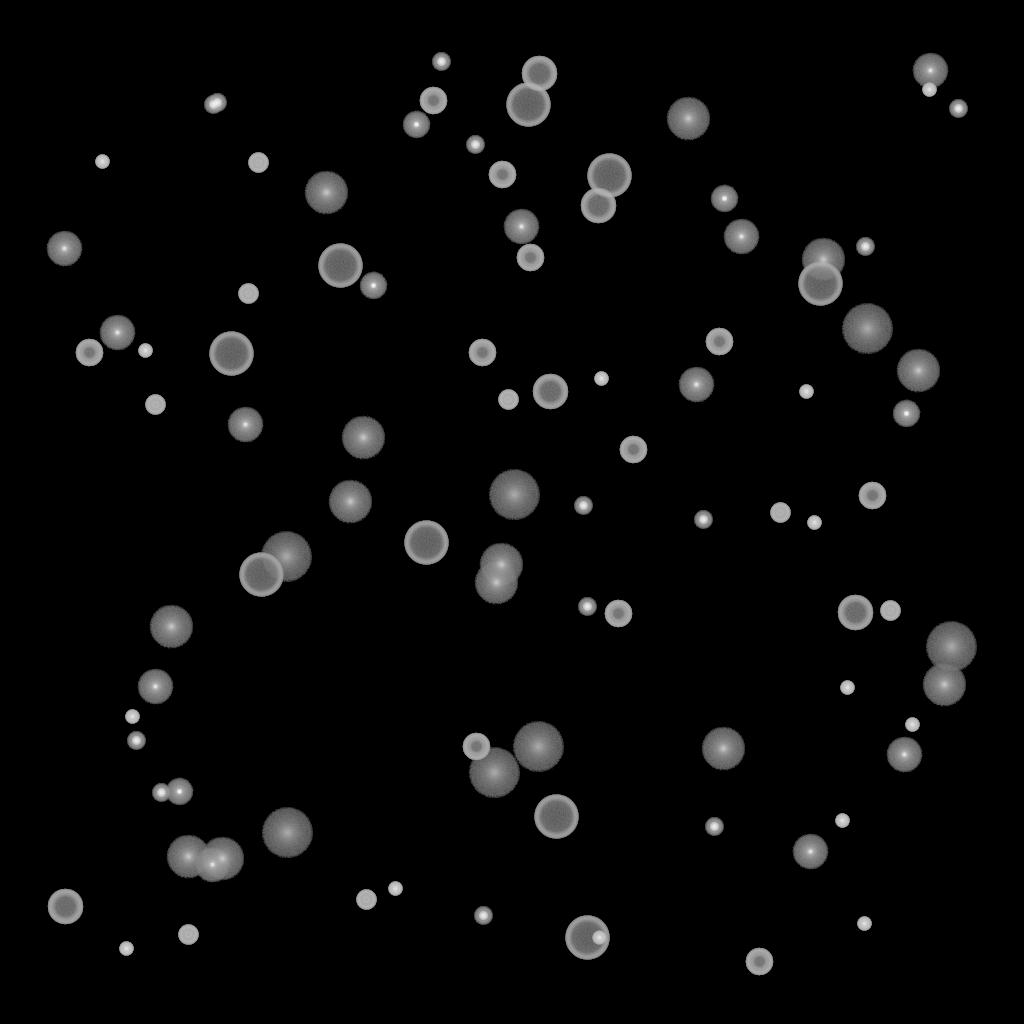depth:-10: (710, 185, 738, 213), (892, 400, 920, 428), (165, 778, 193, 806), (402, 111, 430, 139), (359, 272, 387, 300)
depth:-20: (152, 784, 170, 802), (574, 497, 592, 515), (432, 53, 450, 71), (474, 907, 492, 925), (204, 96, 222, 114), (127, 732, 145, 750), (705, 818, 723, 836), (578, 598, 596, 616), (949, 100, 967, 118), (694, 511, 712, 529), (208, 94, 226, 112), (466, 136, 484, 154), (856, 238, 874, 256)
depth:-30: (922, 83, 936, 97), (807, 516, 821, 530), (95, 155, 109, 169), (905, 718, 919, 732), (835, 814, 849, 828), (138, 344, 152, 358), (594, 372, 608, 386), (125, 710, 139, 724), (799, 385, 813, 399), (592, 931, 606, 945), (119, 942, 133, 956), (840, 681, 854, 695), (388, 882, 402, 896), (857, 917, 871, 931)
depth:-40: (178, 925, 198, 945), (356, 890, 376, 910), (498, 390, 518, 410), (145, 395, 165, 415), (770, 503, 790, 523), (880, 601, 900, 621), (238, 284, 258, 304), (248, 153, 268, 173)
depth:-50: (419, 87, 447, 115), (468, 339, 496, 367), (705, 328, 733, 356), (604, 600, 632, 628), (858, 482, 886, 510), (745, 948, 773, 976), (75, 339, 103, 367), (516, 244, 544, 272), (619, 436, 647, 464), (462, 733, 490, 761), (488, 161, 516, 189)
depth:-60: (580, 188, 616, 224), (47, 889, 83, 925), (521, 56, 557, 92), (532, 374, 568, 410), (837, 595, 873, 631)
depth:-70: (318, 244, 362, 288), (534, 795, 578, 839), (587, 154, 631, 198), (239, 553, 283, 597), (565, 916, 609, 960), (506, 83, 550, 127), (404, 521, 448, 565), (798, 262, 842, 306), (209, 332, 253, 376)
depth:0: (99, 315, 135, 351), (137, 669, 173, 705), (912, 53, 948, 89), (46, 231, 82, 267), (194, 847, 230, 883), (227, 407, 263, 443), (792, 834, 828, 870), (678, 367, 714, 403), (886, 737, 922, 773), (723, 219, 759, 255), (503, 209, 539, 245)
depth:10: (922, 663, 966, 707), (328, 480, 372, 524), (701, 727, 745, 771), (200, 837, 244, 881), (166, 835, 210, 879), (341, 416, 385, 460), (666, 97, 710, 141), (479, 543, 523, 587), (801, 238, 845, 282), (149, 605, 193, 649), (896, 349, 940, 393), (304, 171, 348, 215), (474, 561, 518, 605)
depth:20: (925, 622, 977, 672), (841, 304, 893, 354), (468, 748, 520, 798), (260, 532, 312, 582), (512, 722, 564, 772), (488, 470, 540, 520), (261, 808, 313, 858)
